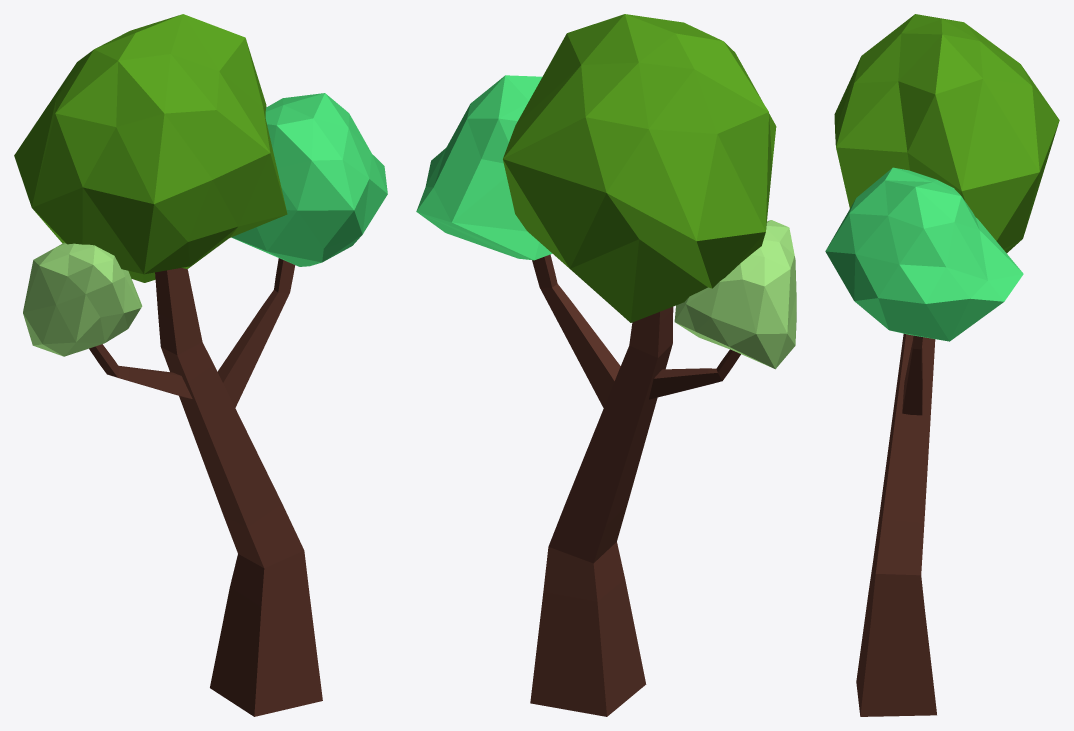
Rendered from tree123.gltf.
3 renders of one model, left to right at view 1: azimuth 30°, elevation 25°; view 2: azimuth 150°, elevation 25°; view 3: azimuth 270°, elevation 25°, orthographic. The views are drawn at different scales.
Visible parts, largest first — view 1: Icosphere, Plane, Icosphere.001, Icosphere.002, Plane.001, Plane.002; view 2: Icosphere, Plane, Icosphere.001, Icosphere.002, Plane.001, Plane.002; view 3: Icosphere, Icosphere.001, Plane, Plane.001.
Part boxes in pixels (x1,y1,x2,y2): Icosphere: [14, 14, 287, 282]; Plane: [155, 268, 322, 716]; Icosphere.001: [231, 93, 387, 266]; Icosphere.002: [23, 242, 142, 356]; Plane.001: [217, 258, 295, 407]; Plane.002: [89, 344, 192, 398]; Icosphere: [503, 14, 776, 322]; Plane: [530, 307, 673, 716]; Icosphere.001: [416, 75, 551, 260]; Icosphere.002: [674, 220, 796, 369]; Plane.001: [532, 254, 620, 407]; Plane.002: [649, 349, 740, 399]; Icosphere: [834, 14, 1059, 253]; Icosphere.001: [825, 167, 1023, 341]; Plane: [856, 333, 936, 716]; Plane.001: [902, 335, 922, 415].
Bounding box in the file's own units: 2.46 × 4.56 × 1.52.
